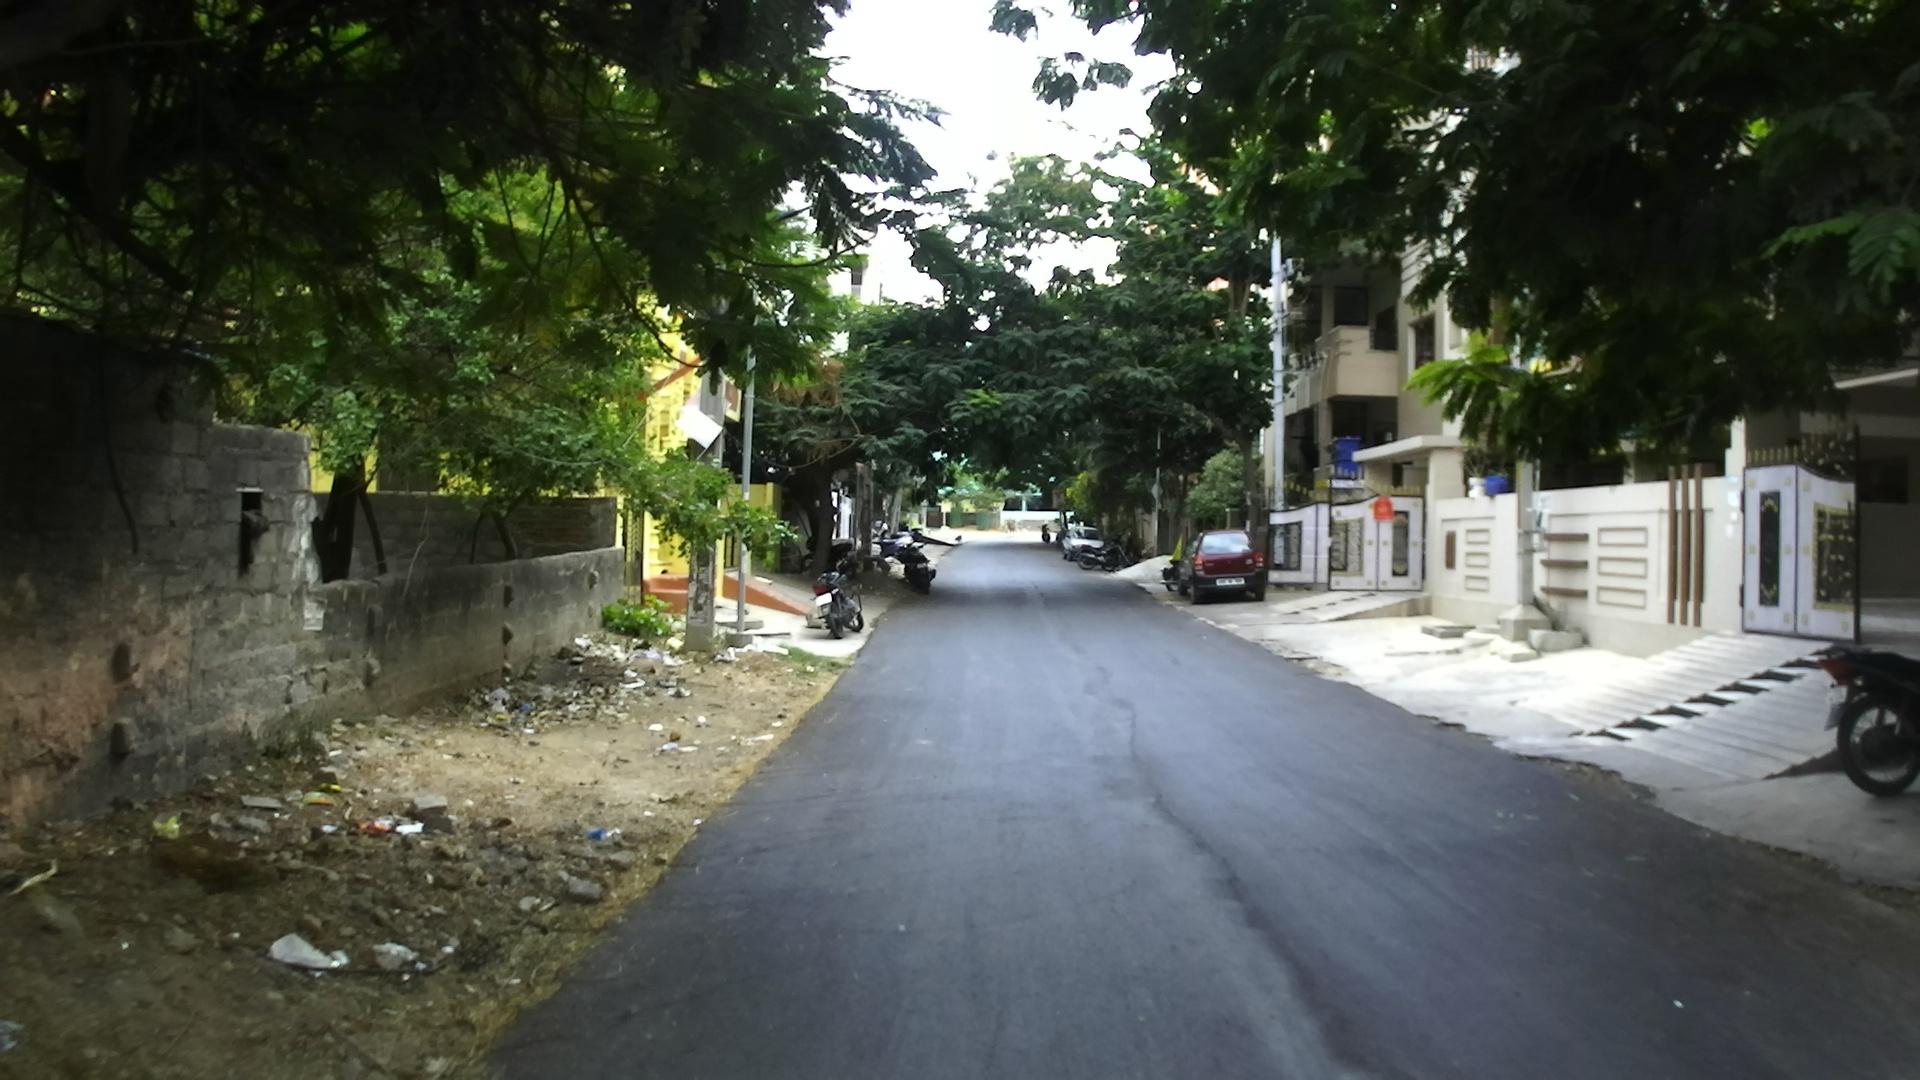vehicle: (1811, 640, 1919, 796), (1179, 529, 1269, 601), (1055, 520, 1106, 566), (1060, 529, 1106, 567)
